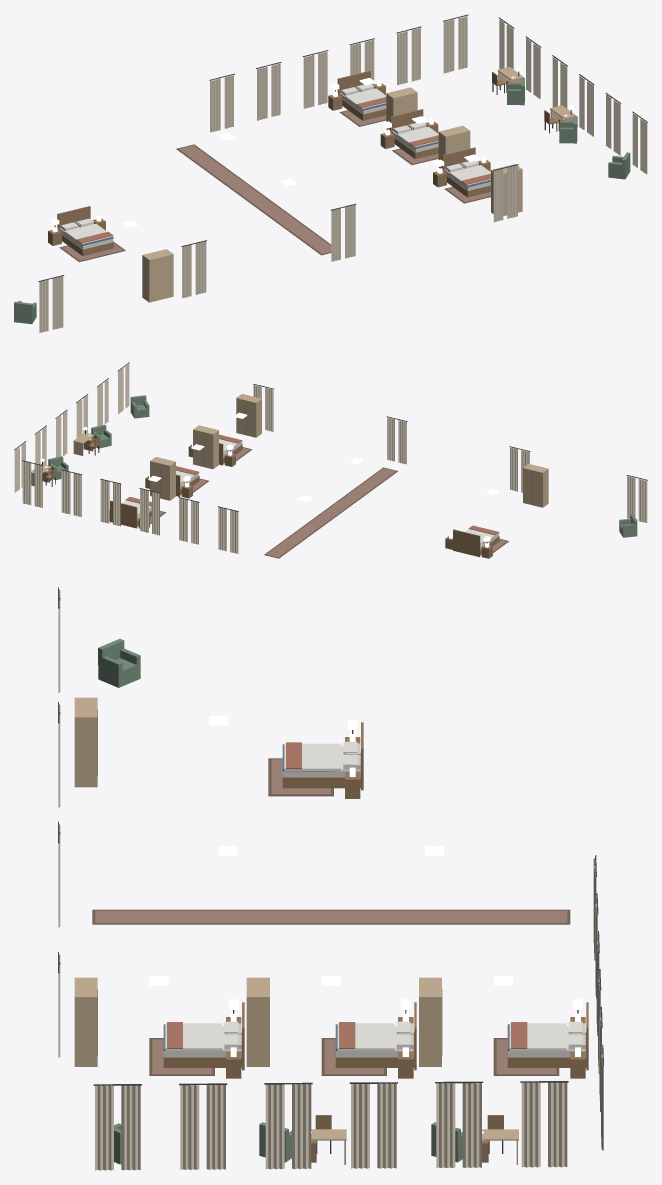
Rendered from fine-s3.glb.
3 views of the same model, one above another, from view 1: azimuth 30°, elevation 25°; view 2: azimuth 150°, elevation 25°; view 3: azimuth 270°, elevation 25° (orthographic). The views are drawn at different scales.
Visible parts, largest first — view 1: soft-s3, dresser.008, bed-frame.008, bed-frame.009, bed-frame.010, bed-frame.011, dresser.010, dresser.009, dresser.011, lounge-chair.011, lounge-chair.008; view 2: soft-s3, dresser.008, dresser.010, dresser.011, dresser.009, bed-frame.008, bed-frame.009, lounge-chair.011, lounge-chair.008, lounge-chair.010, writing-desk.005; view 3: soft-s3, dresser.008, dresser.010, dresser.011, dresser.009, lounge-chair.008, bed-frame.008, bed-frame.009, bed-frame.011, bed-frame.010.
Part boxes in pixels (x1,y1,x2,y2): soft-s3: (38,14,647,332); dresser.008: (142,249,173,302); bed-frame.008: (57,206,113,255); bed-frame.009: (337,71,386,120); bed-frame.010: (390,109,438,159); bed-frame.011: (442,147,490,197); dresser.010: (438,125,470,168); dresser.009: (386,87,417,129); dresser.011: (491,164,522,216); lounge-chair.011: (608,152,630,179); lounge-chair.008: (14,301,36,324); soft-s3: (14,362,647,558); dresser.008: (523,464,548,507); dresser.010: (193,425,218,469); dresser.011: (236,394,261,437); dresser.009: (150,457,175,500); bed-frame.008: (453,529,499,557); bed-frame.009: (110,500,151,528); lounge-chair.011: (130,395,149,418); lounge-chair.008: (619,514,637,537); lounge-chair.010: (91,424,111,448); writing-desk.005: (73,427,94,455); soft-s3: (58,587,603,1170); dresser.008: (74,697,97,787); dresser.010: (246,977,269,1066); dresser.011: (74,977,97,1066); dresser.009: (419,977,442,1066); lounge-chair.008: (98,638,140,687); bed-frame.008: (282,722,363,790); bed-frame.009: (507,1002,588,1070); bed-frame.011: (163,1002,244,1070); bed-frame.010: (335,1002,416,1070).
Size of the model in its own units: 30.81 by 2.51 by 14.16.
